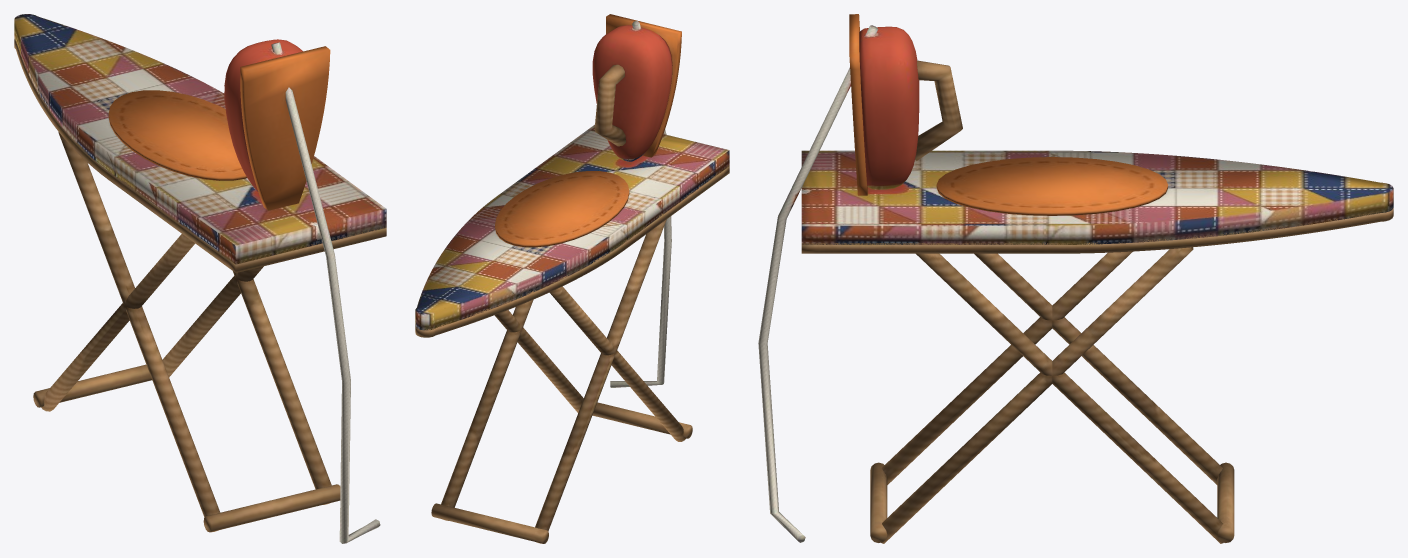
Rendered from iron_grill.glb.
The picture shows the model from 3 angles, left to right: view 1: azimuth 30°, elevation 25°; view 2: azimuth 150°, elevation 25°; view 3: azimuth 270°, elevation 25°; orthographic projection. The views are drawn at different scales.
Parts seen in each view (by area): view 1: prop_iron_grill_felt, prop_iron_grill_wood, prop_iron_grill_felt_heat; view 2: prop_iron_grill_felt, prop_iron_grill_wood, prop_iron_grill_felt_heat; view 3: prop_iron_grill_felt, prop_iron_grill_wood, prop_iron_grill_felt_heat.
Boxes of the visible parts, x1=… form: prop_iron_grill_felt: x1=14, y1=14, x2=386, y2=543; prop_iron_grill_wood: x1=14, y1=39, x2=386, y2=532; prop_iron_grill_felt_heat: x1=108, y1=46, x2=330, y2=210; prop_iron_grill_felt: x1=415, y1=21, x2=729, y2=387; prop_iron_grill_wood: x1=415, y1=64, x2=729, y2=543; prop_iron_grill_felt_heat: x1=495, y1=14, x2=681, y2=247; prop_iron_grill_felt: x1=758, y1=25, x2=1393, y2=542; prop_iron_grill_wood: x1=801, y1=60, x2=1393, y2=543; prop_iron_grill_felt_heat: x1=849, y1=14, x2=1167, y2=215.
Bounding box in the file's own units: 0.92 × 2.8 × 3.29.
3 materials, 3 textured.
